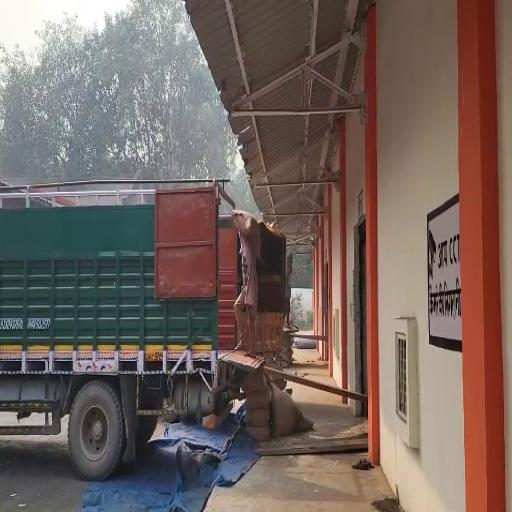bag: (234, 206, 266, 264)
